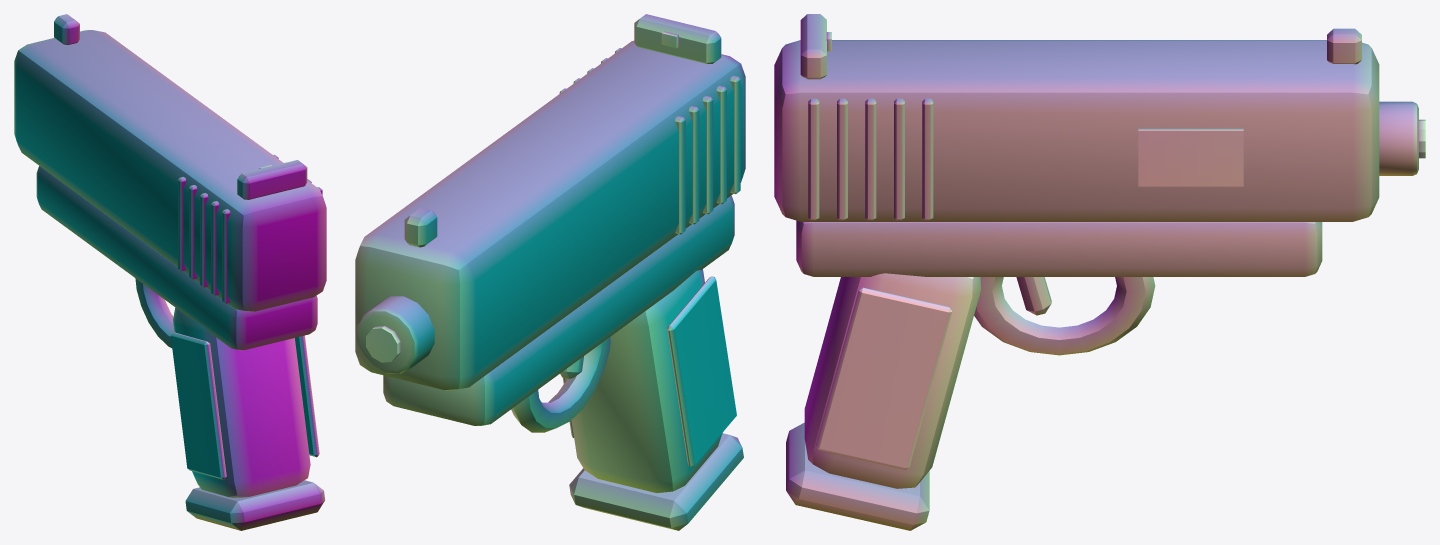
The model's file is wpn_pistol.glb.
3 views of the same model, side by side, from view 1: azimuth 30°, elevation 25°; view 2: azimuth 150°, elevation 25°; view 3: azimuth 270°, elevation 25° (orthographic). The views are drawn at different scales.
Visible parts, largest first — view 1: wpn_pistol_mesh; view 2: wpn_pistol_mesh; view 3: wpn_pistol_mesh.
Boxes of the visible parts, left/top/right/bottom form: wpn_pistol_mesh: left=14, top=14, right=326, bottom=530; wpn_pistol_mesh: left=355, top=14, right=745, bottom=530; wpn_pistol_mesh: left=774, top=14, right=1425, bottom=530.
Bounding box in the file's own units: 0.034 × 0.1196 × 0.1485.
